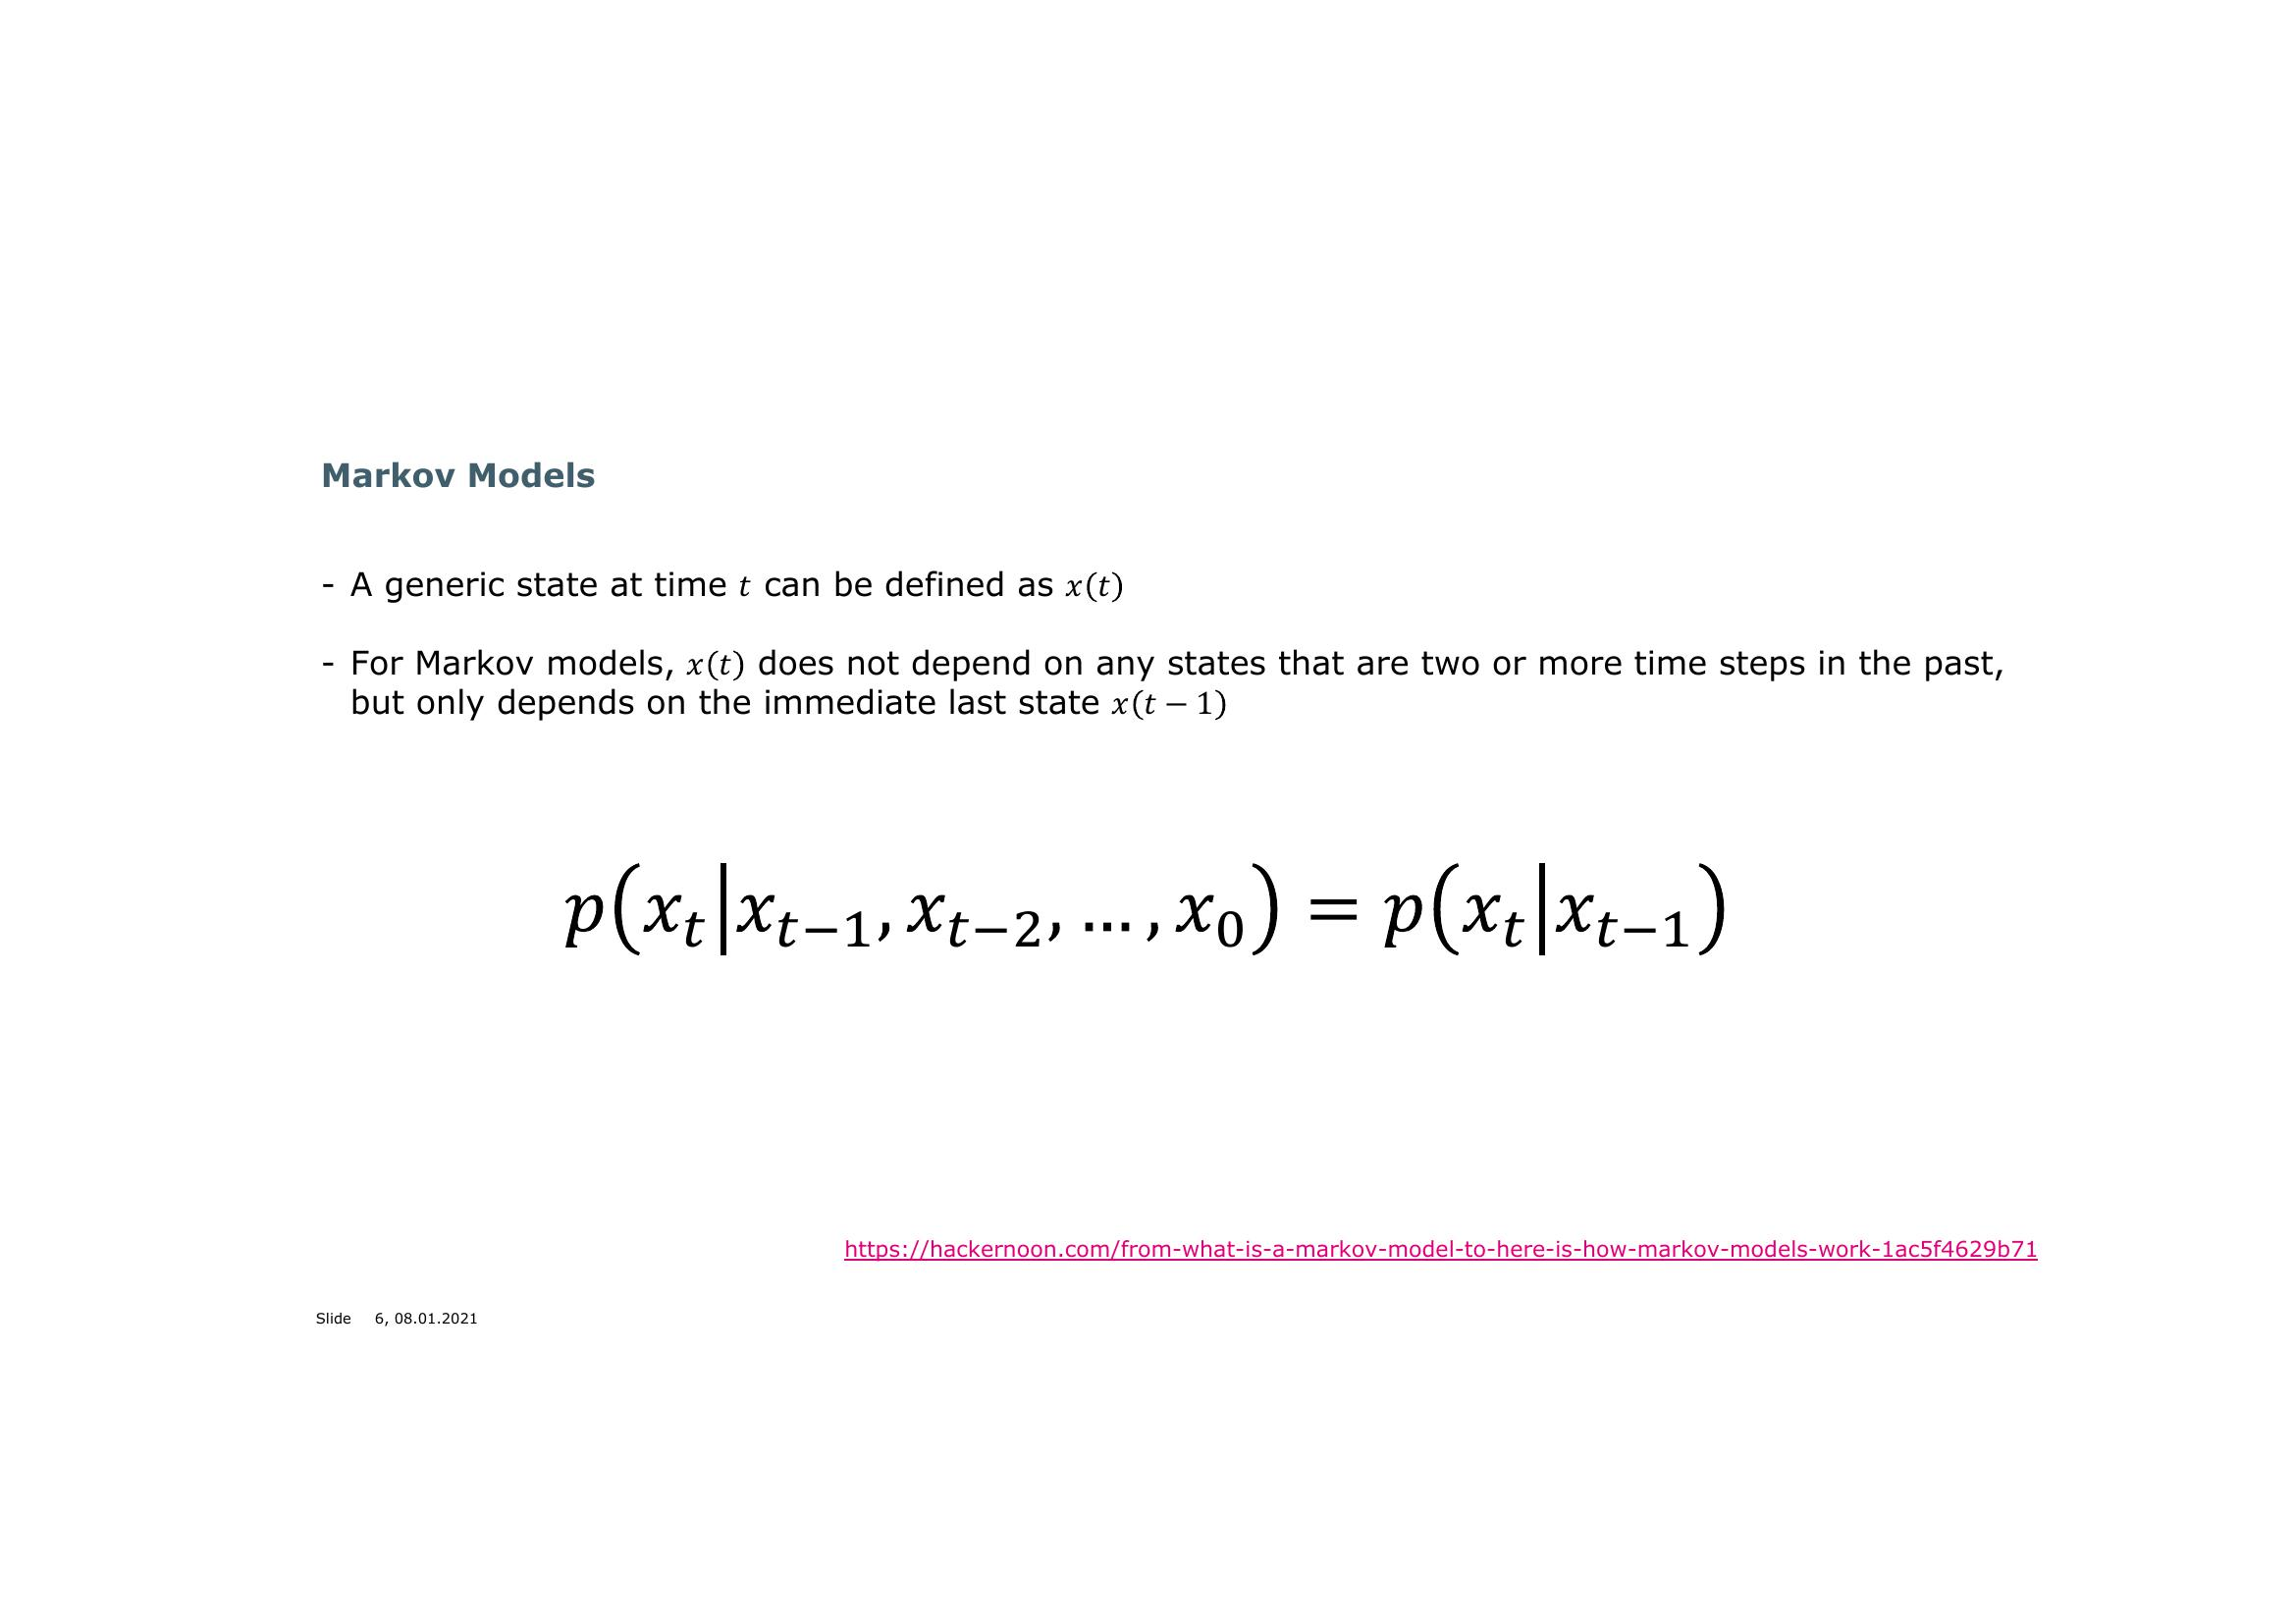Title: (306, 450, 608, 501)
